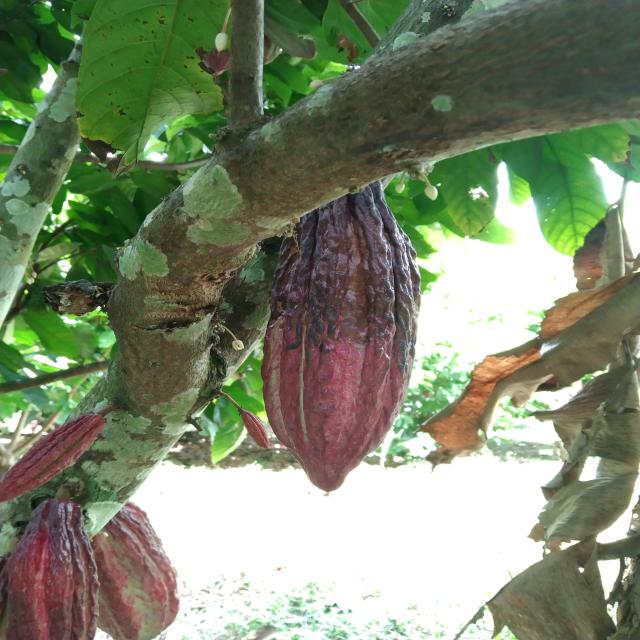Fitoftora: (263, 184, 418, 493)
Sana: (2, 501, 101, 639), (85, 504, 184, 639), (0, 415, 109, 509), (239, 409, 268, 448)
